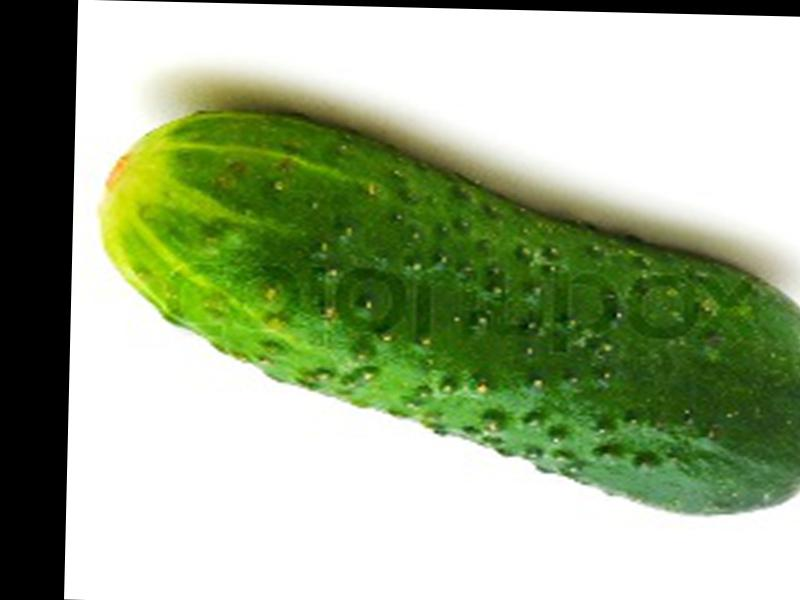Cucumber: (91, 105, 800, 519)
